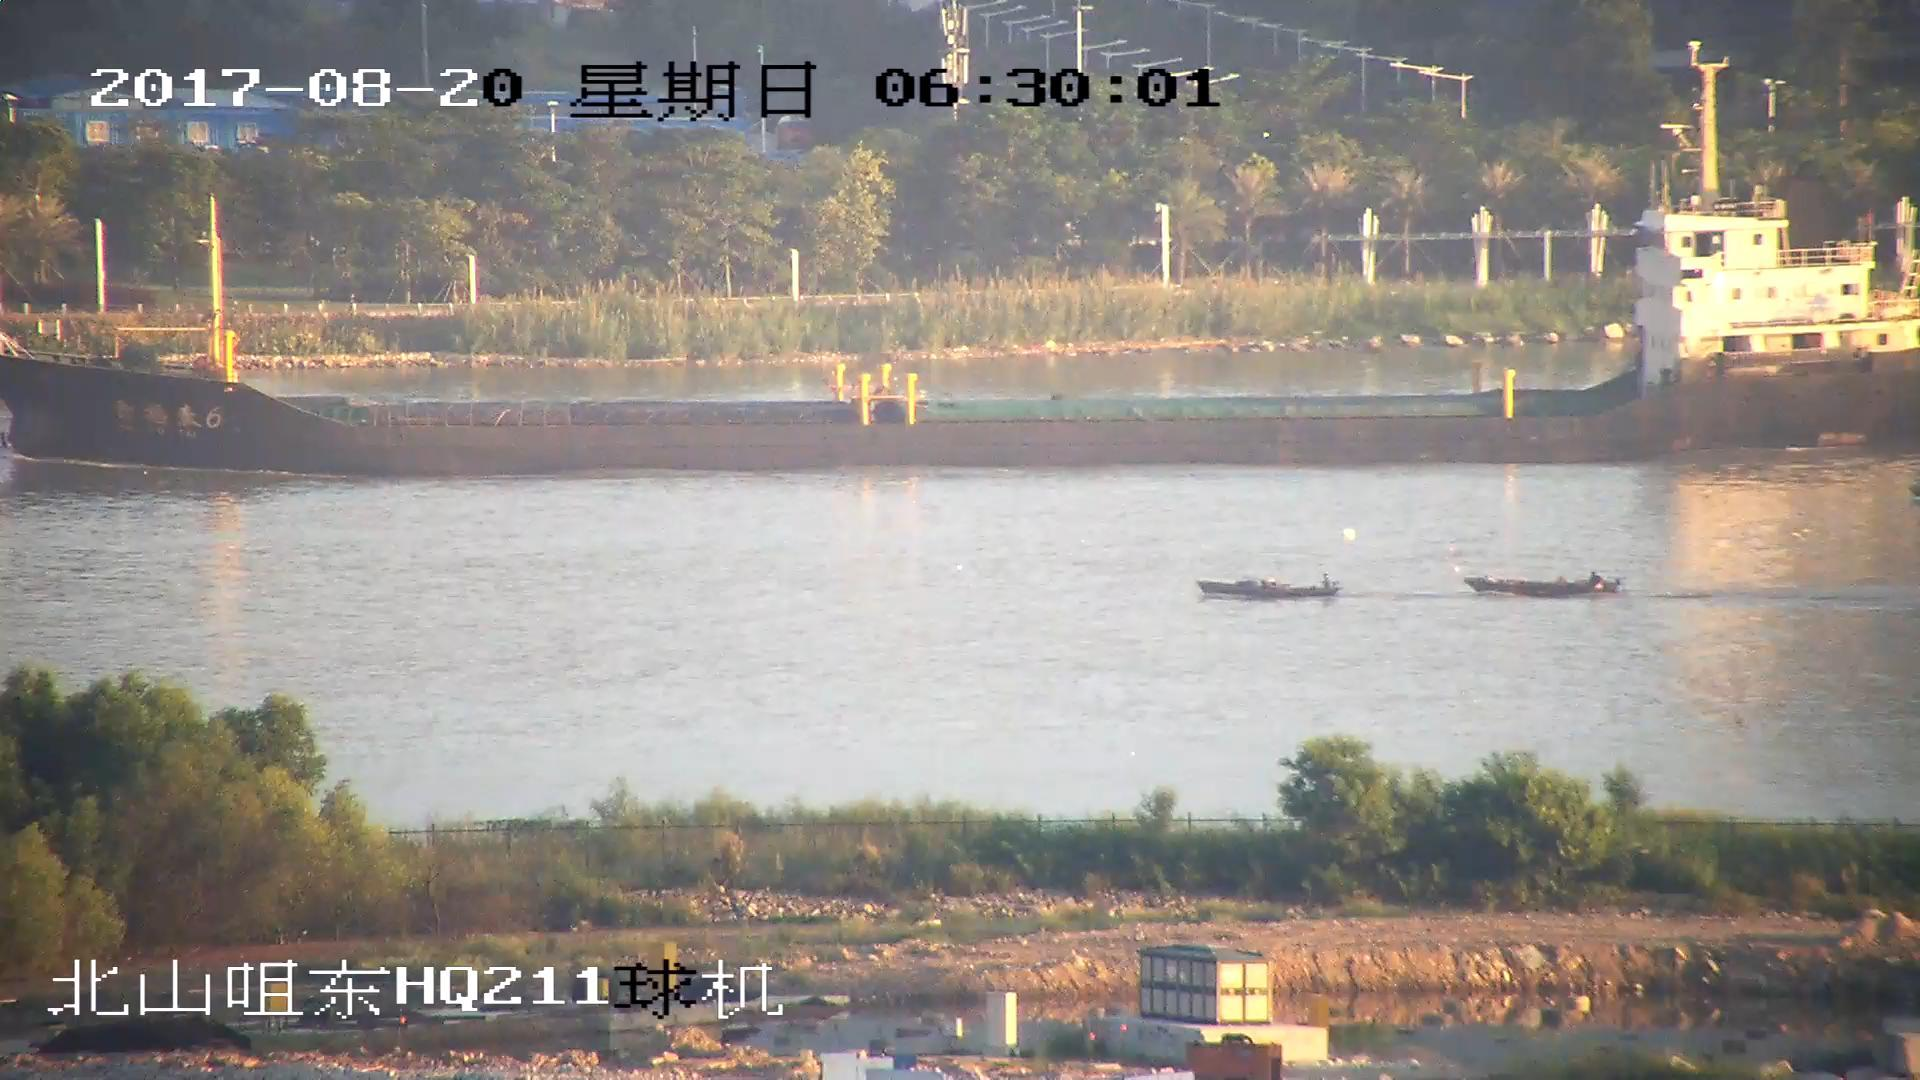Ship: (3, 111, 1920, 473), (1464, 567, 1615, 601), (1208, 575, 1344, 603)
